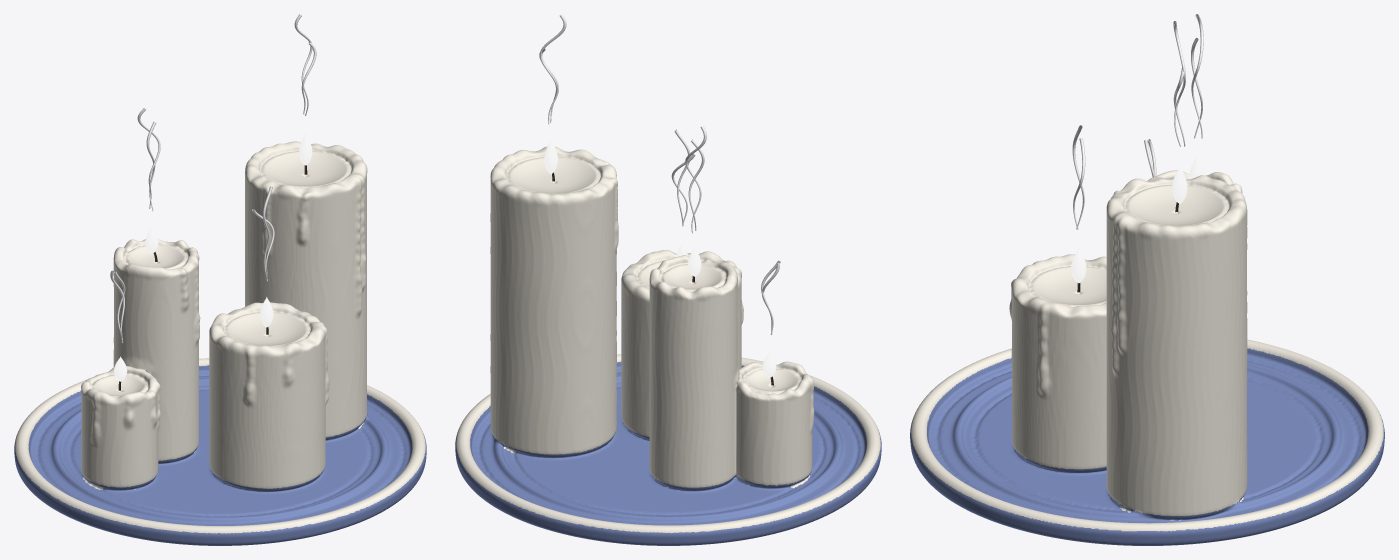
Rendered from candles.glb.
3 renders of one model, left to right at view 1: azimuth 30°, elevation 25°; view 2: azimuth 150°, elevation 25°; view 3: azimuth 270°, elevation 25°, orthographic. The views are drawn at different scales.
Visible parts, largest first — view 1: Candles; view 2: Candles; view 3: Candles.
Boxes of the visible parts, x1,y1,x2,y2 form: Candles: (14, 141, 426, 545); Candles: (455, 146, 881, 545); Candles: (910, 170, 1384, 545).
Bounding box in the file's own units: 29.09 × 32.33 × 29.09.
